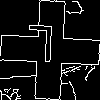L: (25, 25, 55, 72)
